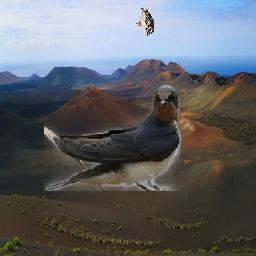Swallow: (45, 85, 182, 192)
Woodpecker: (136, 8, 155, 36)
